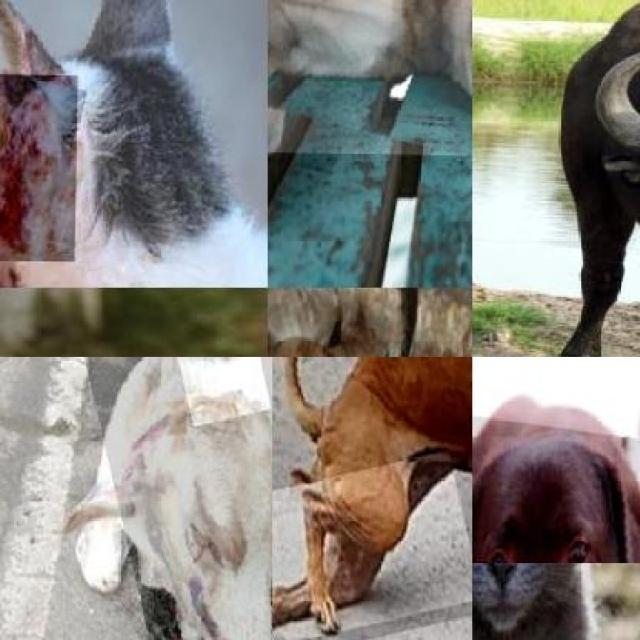buffalo: (558, 0, 640, 357)
cat: (0, 0, 268, 288), (472, 563, 640, 640)
cow: (51, 357, 272, 640)
dog: (272, 357, 472, 640), (267, 0, 472, 158), (472, 391, 640, 563)
injured: (272, 449, 472, 640), (0, 72, 77, 260), (154, 357, 272, 426), (0, 214, 15, 288)
